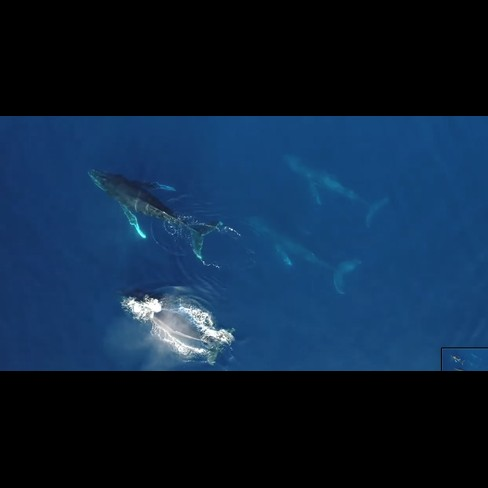hump: (84, 163, 228, 265), (239, 206, 365, 298), (110, 282, 236, 366), (275, 147, 393, 228)
